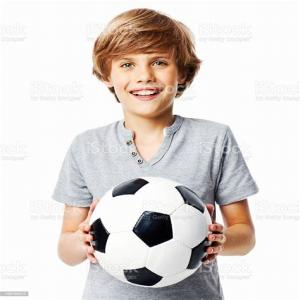Football: (88, 175, 216, 290)
